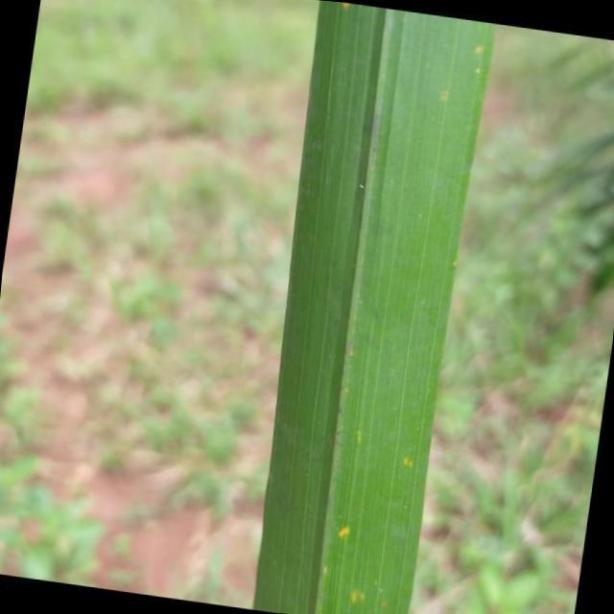Kalium: (248, 0, 492, 614)
